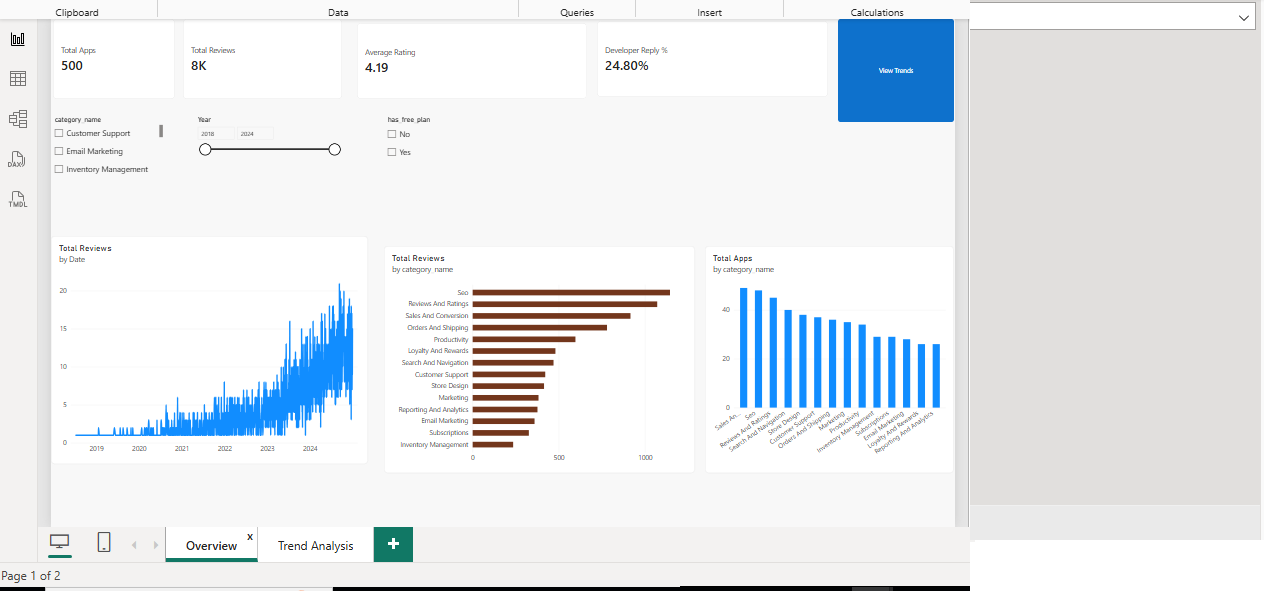

The page's visual inventory and layout, read from the dashboard file:
{"tool":"powerbi","page":{"name":"Overview","canvas":[1920,1080],"ordinal":0},"visuals":[{"type":"cardVisual","fields":{"Data":["reviews.Total Reviews"]},"box":[279.7,0,262,133.5],"z":1},{"type":"cardVisual","fields":{"Data":["reviews.Average Rating"]},"box":[650.1,25.2,488.8,108.3],"z":2},{"type":"cardVisual","fields":{"Data":["reviews.Developer Reply %"]},"box":[1181.7,7.6,279.7,126],"z":3},{"type":"slicer","fields":{"Values":["dim_date.Year"]},"box":[302.4,171.3,217,150],"z":5},{"type":"slicer","fields":{"Values":["apps.has_free_plan"]},"box":[650.1,189,216.7,151.2],"z":6},{"type":"lineChart","fields":{"Category":["dim_date.Date"],"Y":["reviews.Total Reviews"]},"box":[0,357.8,423.3,274.6],"z":7},{"type":"clusteredBarChart","fields":{"Category":["apps.category_name"],"Y":["reviews.Total Reviews"]},"box":[5,650.1,423,275],"z":8},{"type":"slicer","fields":{"Values":["apps.category_name"]},"box":[5,133.5,249.4,189],"z":9},{"type":"cardVisual","fields":{"Data":["reviews.Total Apps"]},"box":[5,0,221.7,120.9],"z":10},{"type":"actionButton","box":[1673.1,0,246.9,98.3],"z":11}]}

Visuals, with their boxes on the page's 1920x1080 design canvas (x1, y1, x2, y2). These are canvas units, not pixel positions in the 1264x591 screenshot, which may show the page scaled, cropped or inside an application window:
cardVisual - reviews.Total Reviews: [280,0,542,134]
cardVisual - reviews.Average Rating: [650,25,1139,134]
cardVisual - reviews.Developer Reply %: [1182,8,1461,134]
slicer - dim_date.Year: [302,171,519,321]
slicer - apps.has_free_plan: [650,189,867,340]
lineChart - dim_date.Date x reviews.Total Reviews: [0,358,423,632]
clusteredBarChart - apps.category_name x reviews.Total Reviews: [5,650,428,925]
slicer - apps.category_name: [5,134,254,322]
cardVisual - reviews.Total Apps: [5,0,227,121]
actionButton: [1673,0,1920,98]
